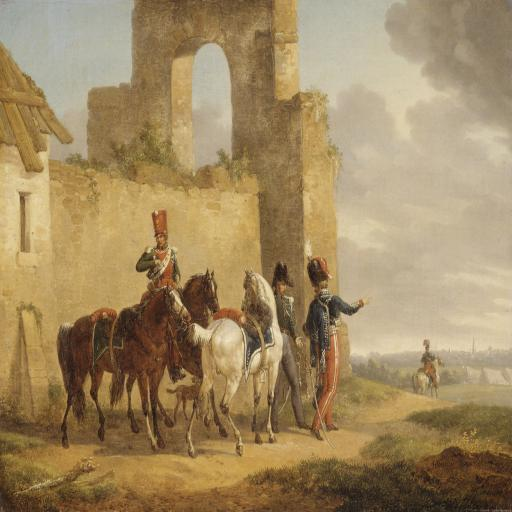horse: (56, 278, 195, 458), (183, 266, 283, 460), (178, 263, 228, 439), (410, 354, 446, 396)
